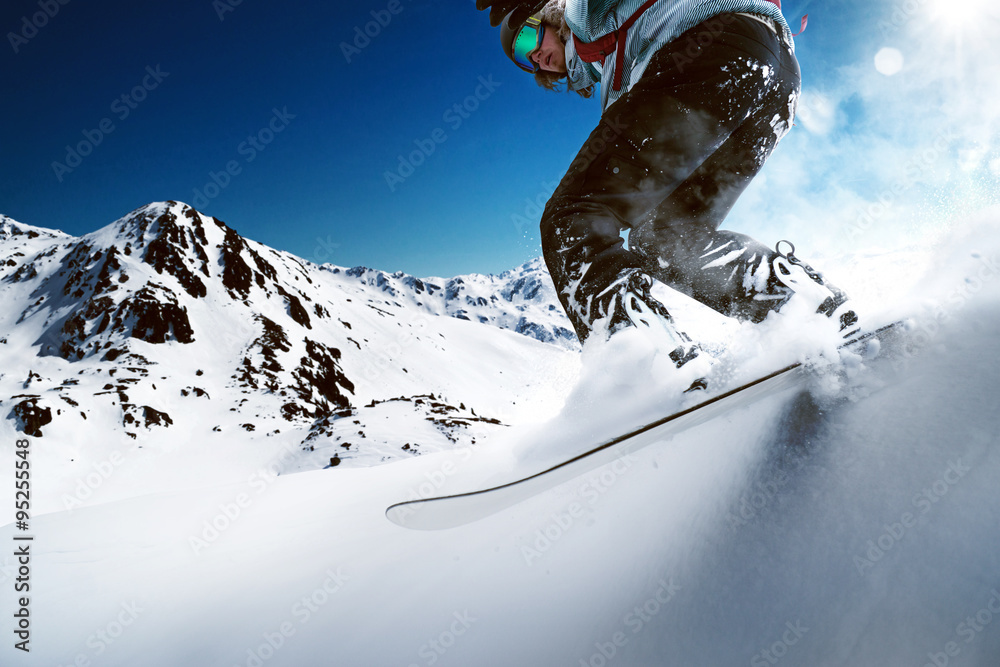snowboarder: (339, 5, 978, 563)
